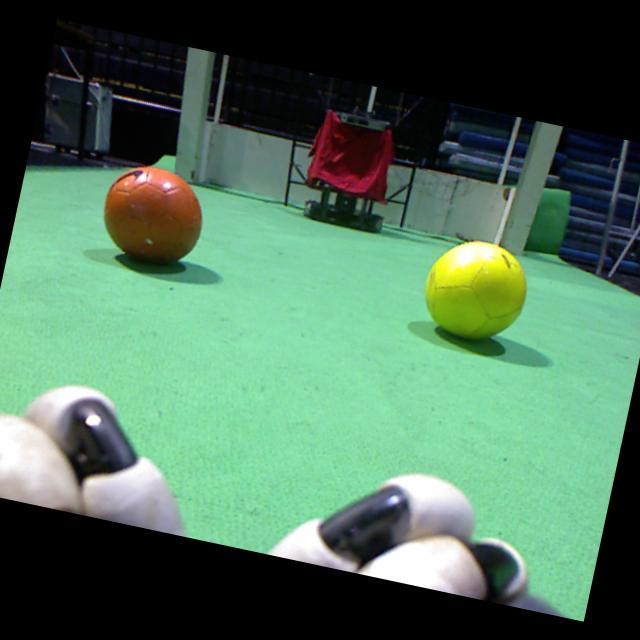ball: (425, 241, 526, 338), (104, 166, 202, 263)
goal: (498, 122, 563, 254), (174, 47, 209, 184)
